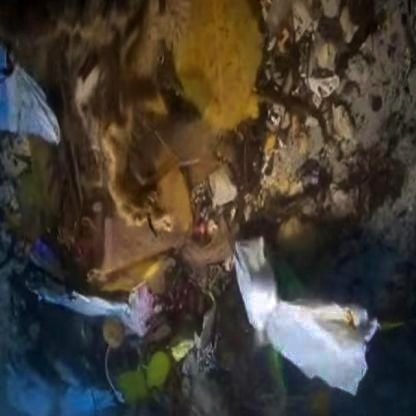plastic: (230, 233, 404, 382), (1, 63, 68, 154)
